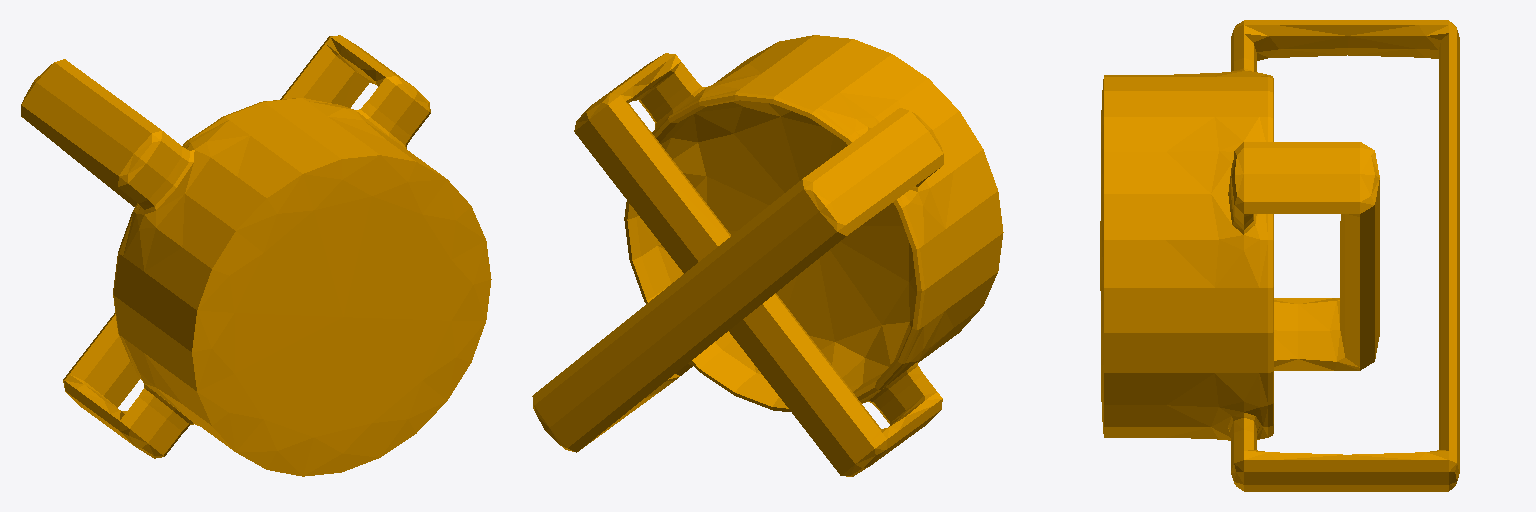
robot.urdf — 177:
<?xml version="1.0" ?>
<robot name="177">
  <link name="body">
    <visual>
      <geometry>
        <mesh filename="../shapes/177.obj"/>
      </geometry>
    </visual>
    <collision>
      <geometry>
        <mesh filename="../shapes/177.obj"/>
      </geometry>
    </collision>
  </link>
</robot>

--- Facts derived from the render (not from the file) ---
3 views of the same robot in one strip: view 1: azimuth 30°, elevation 25°; view 2: azimuth 150°, elevation 25°; view 3: azimuth 270°, elevation 25° (orthographic).
Model 177 with 1 links and 0 joints (none), rooted at body, posed all joints at 0.
Visible links, largest first — view 1: body; view 2: body; view 3: body.
Boxes of the visible links, x1,y1,x2,y2 form: body: (21,35,491,476); body: (532,35,1003,476); body: (1100,20,1459,491).
Size in the robot's own frame: 4.07 by 3.84 by 4.07 metres.
Meshes: 1 distinct files referenced, 1 mesh visuals loaded (1 OBJ).